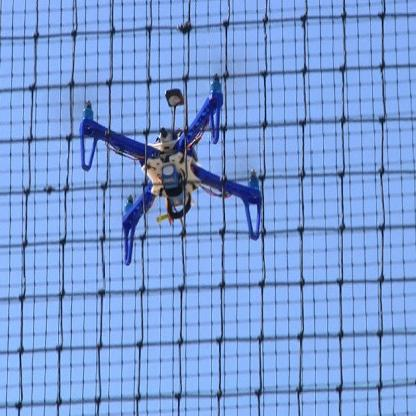drone: (76, 69, 282, 259)
